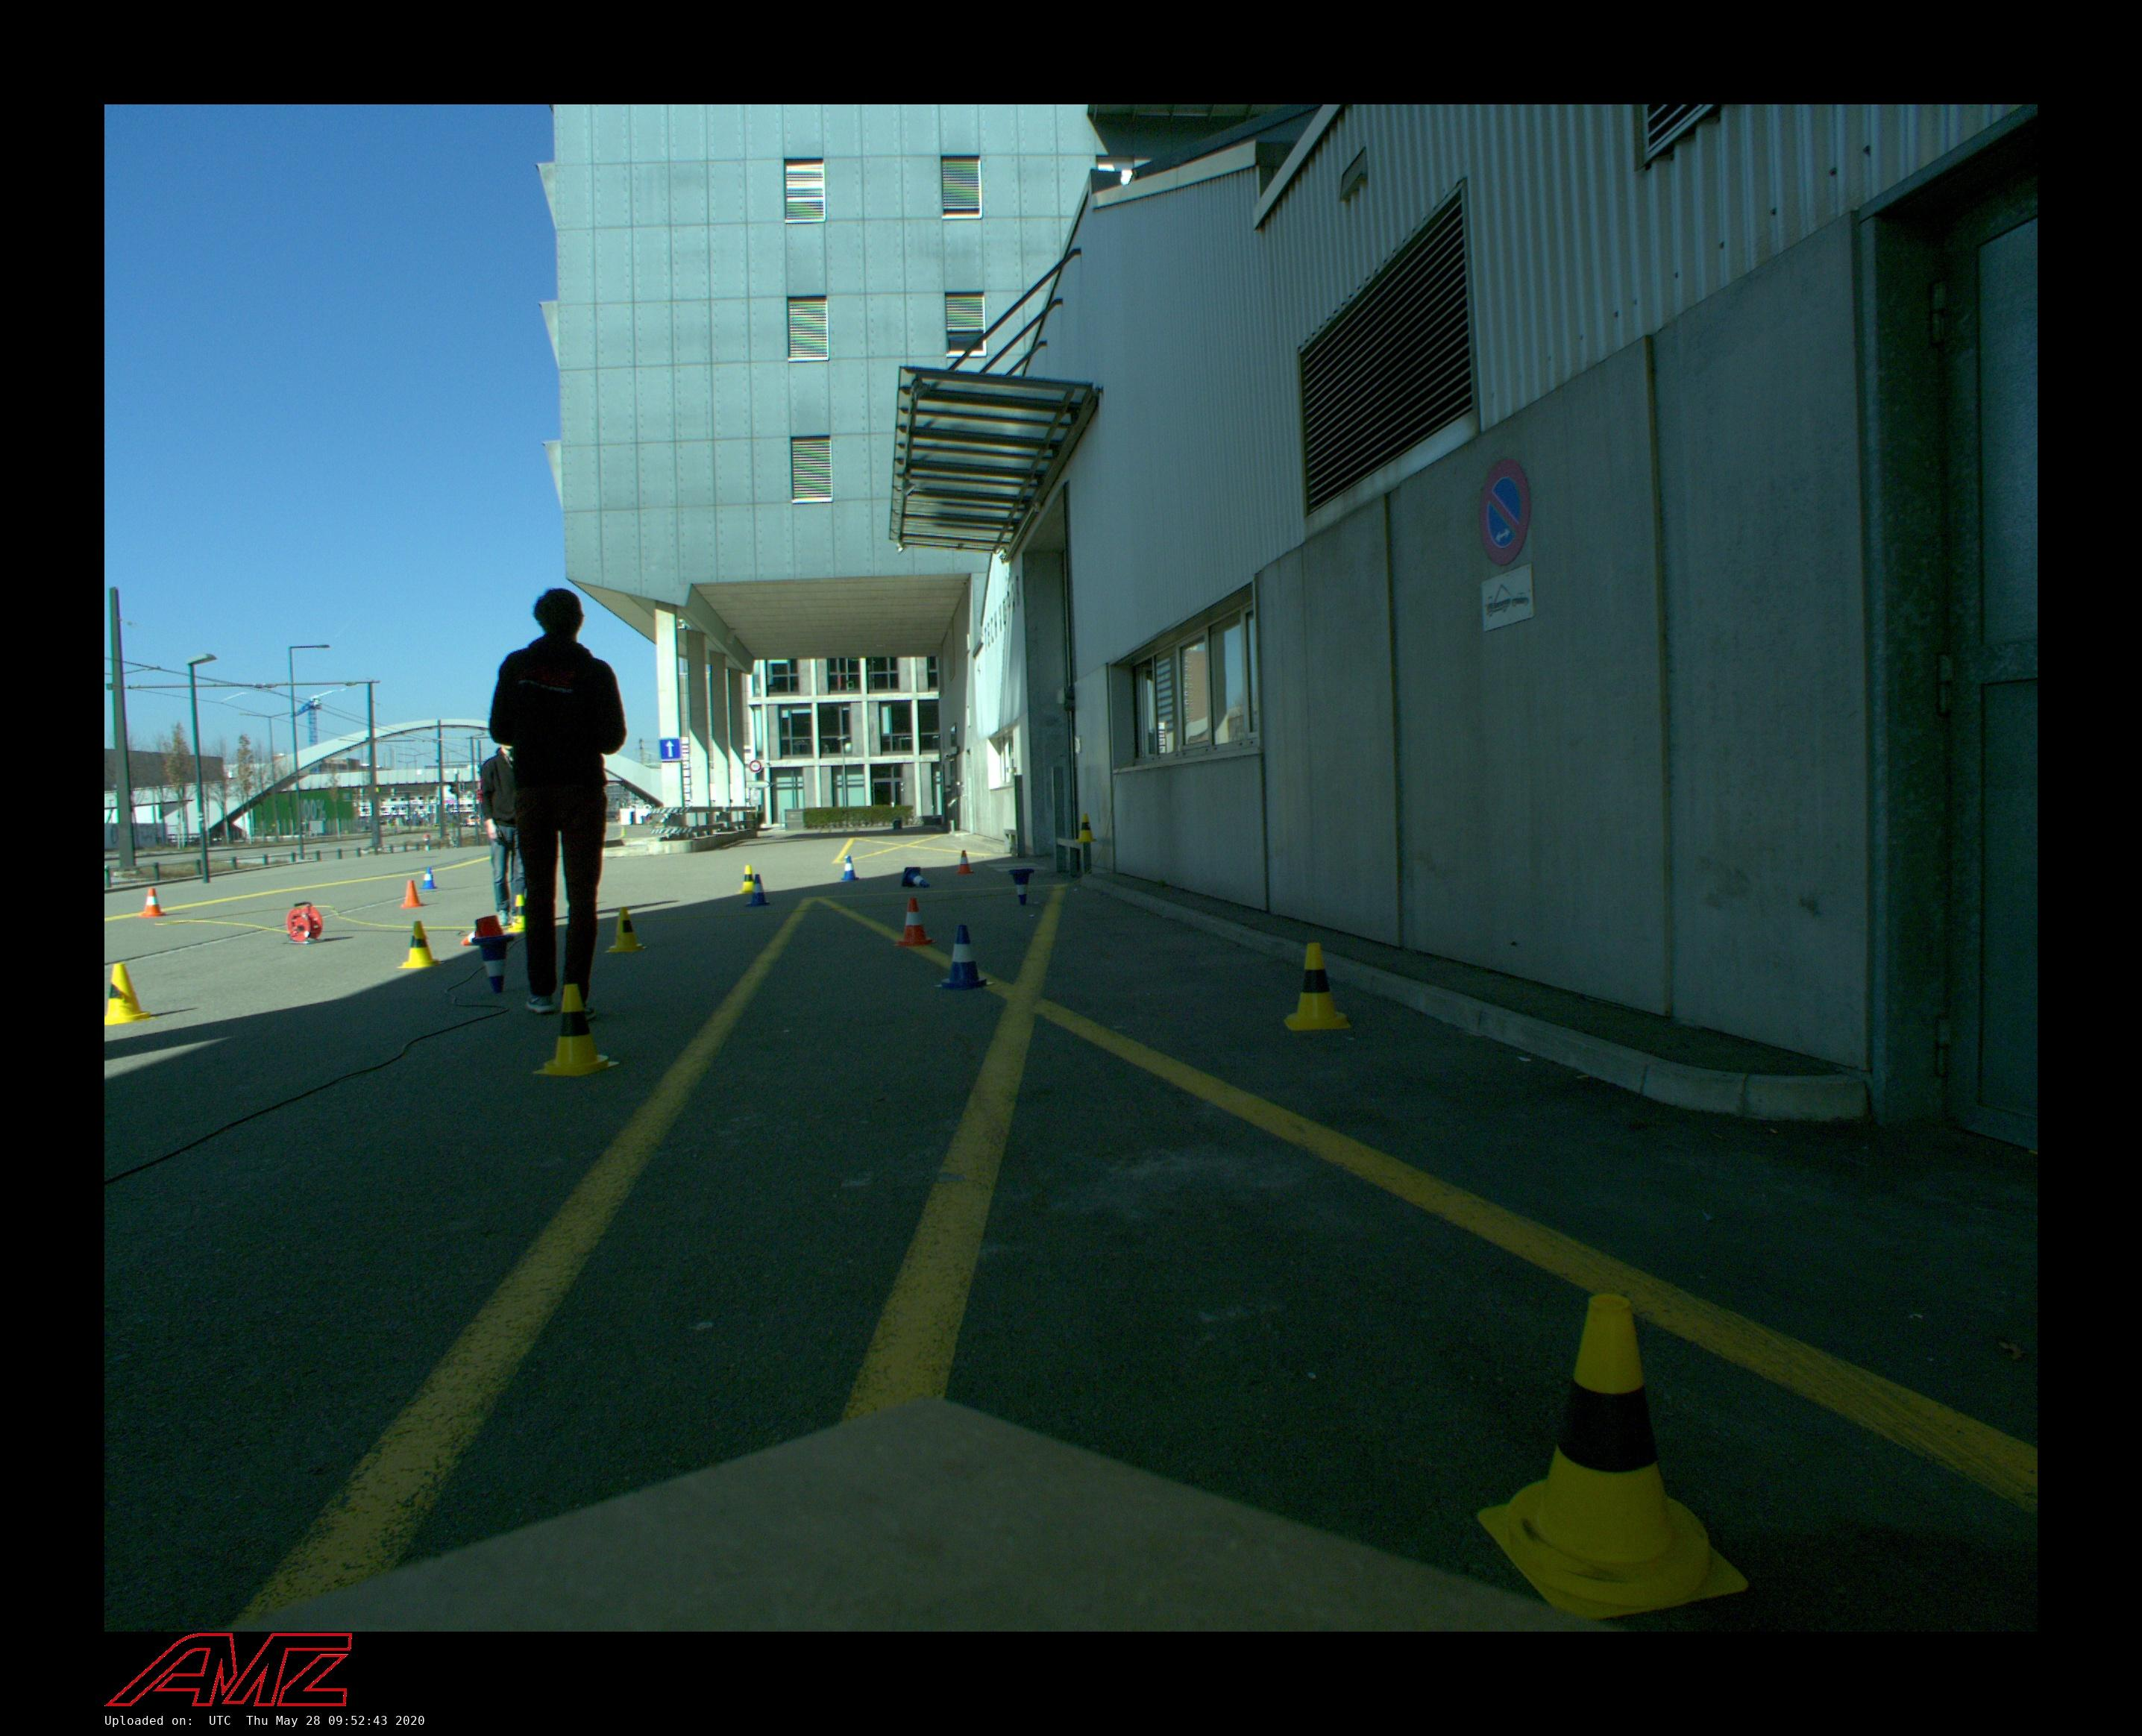blue_cone: (935, 925, 996, 990), (471, 934, 517, 994), (1010, 868, 1035, 905), (746, 873, 769, 907), (902, 866, 930, 887), (840, 856, 859, 882), (420, 866, 438, 889)
orange_cone: (893, 896, 935, 946), (461, 916, 505, 948), (138, 887, 165, 918), (400, 880, 425, 907), (955, 850, 973, 875)
yellow_cone: (1474, 1290, 1750, 1614), (532, 985, 620, 1075), (1283, 942, 1352, 1031), (105, 962, 154, 1026), (397, 921, 441, 967), (606, 907, 647, 953), (508, 896, 526, 934), (1075, 813, 1097, 843), (739, 864, 760, 895)
